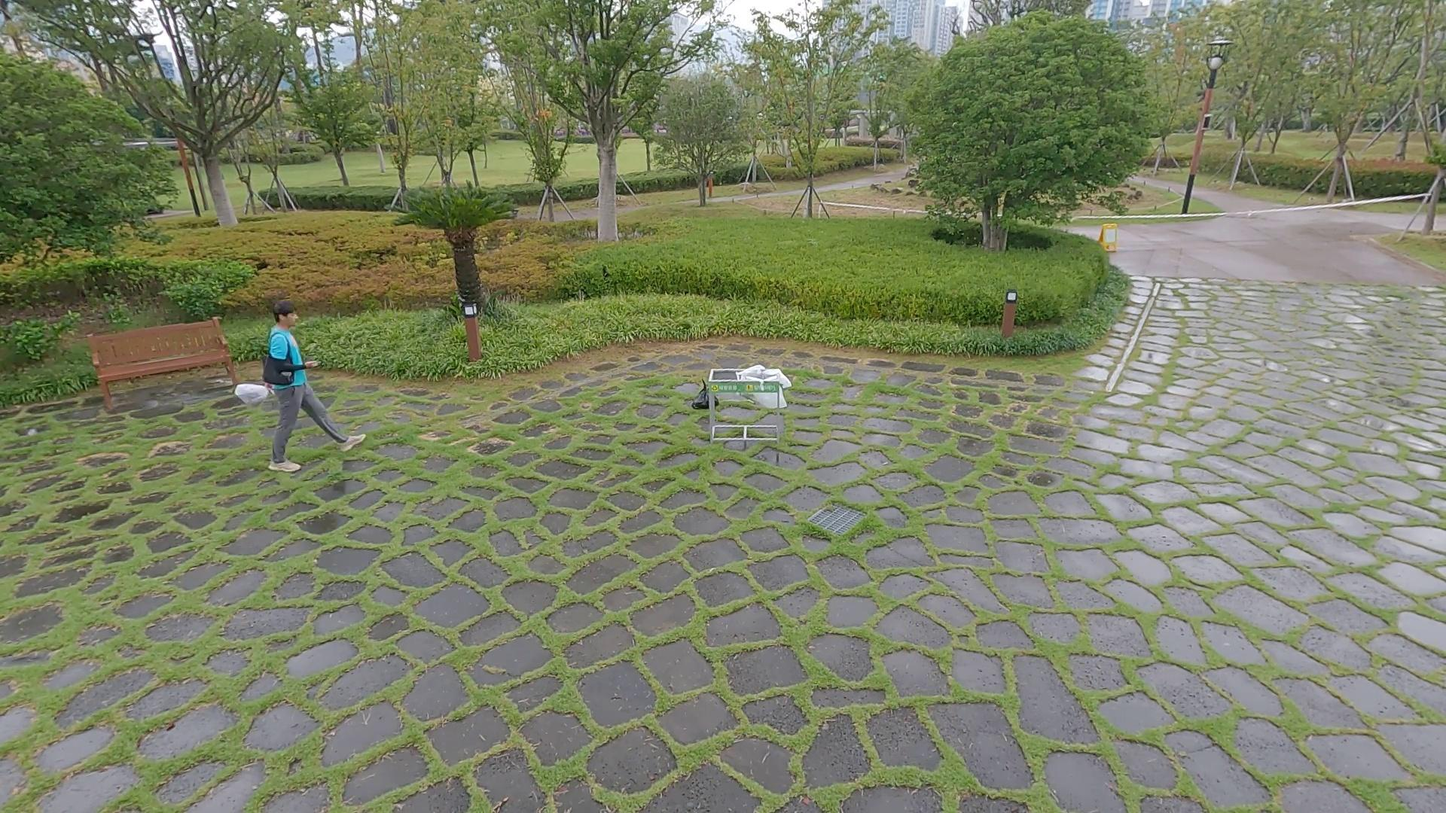person: (254, 301, 368, 477)
trash: (225, 377, 279, 410), (693, 375, 725, 412)
